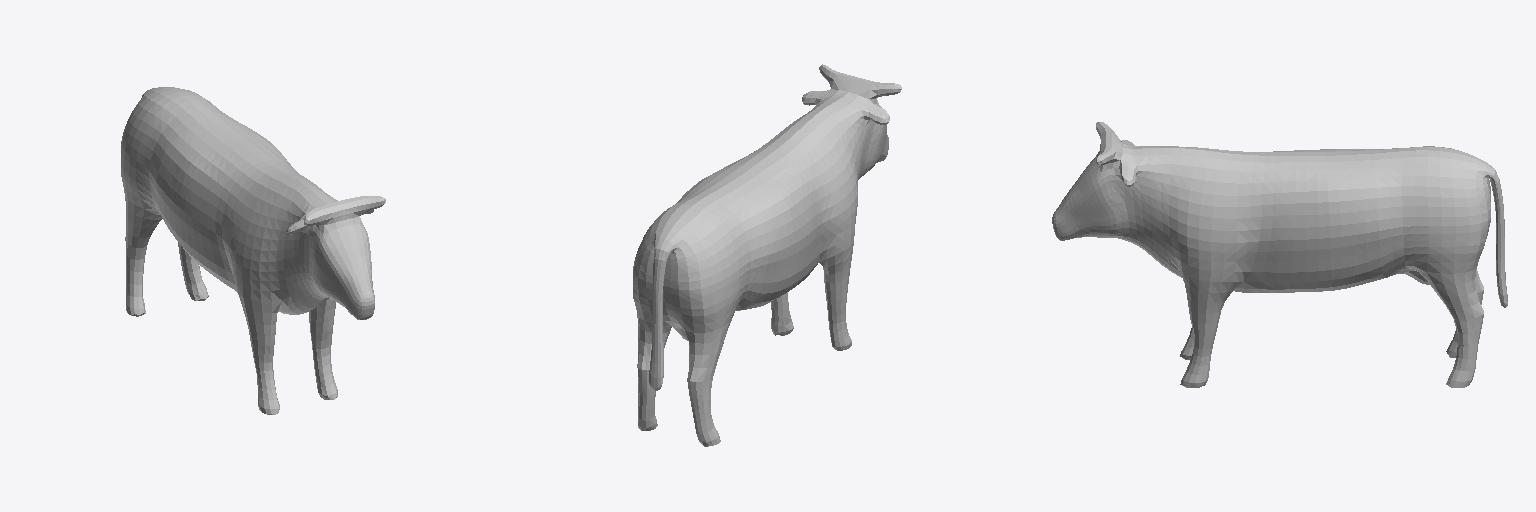
The model's file is bull.obj.
The picture shows the model from 3 angles: view 1: azimuth 30°, elevation 25°; view 2: azimuth 150°, elevation 25°; view 3: azimuth 270°, elevation 25°; orthographic projection.
Parts seen in each view (by area): view 1: bull; view 2: bull; view 3: bull.
Boxes of the visible parts, box(x1,y1,x2,y2) form: bull: box(121, 87, 385, 414); bull: box(633, 64, 901, 446); bull: box(1052, 122, 1507, 387).
Bounding box in the file's own units: 27.01 × 57.94 × 102.